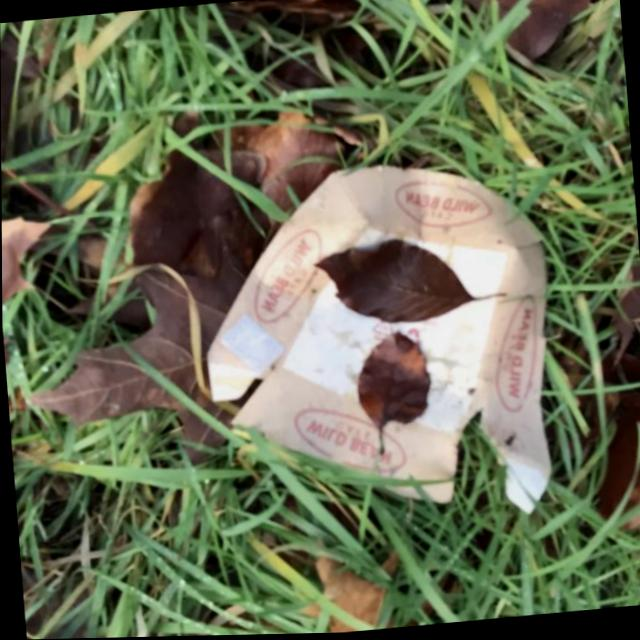Paper: (187, 147, 568, 546)
